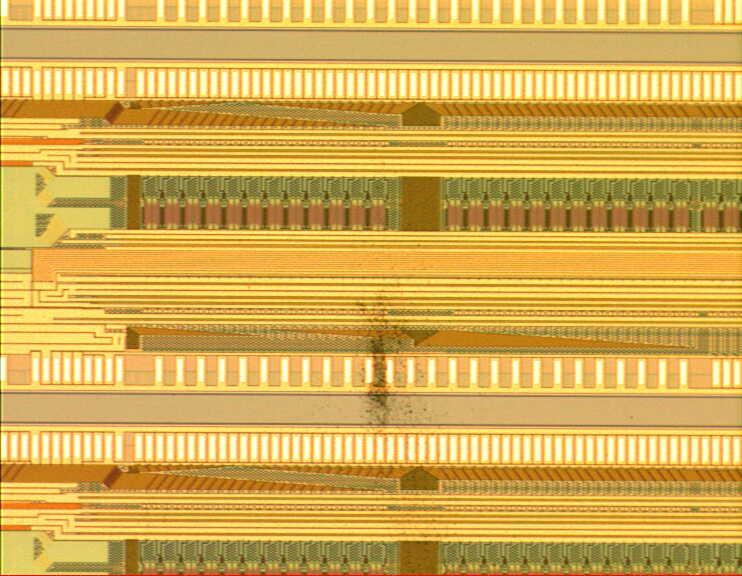PO CONTAMINATION: (353, 268, 444, 444)
